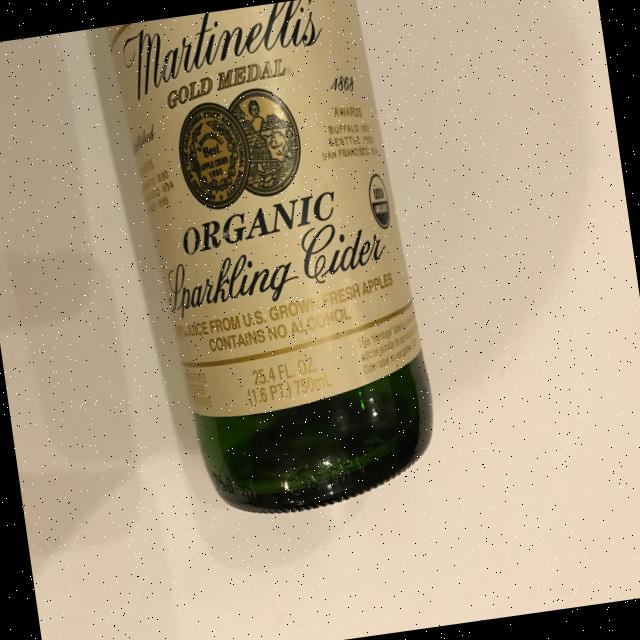glass: (89, 0, 446, 531)
